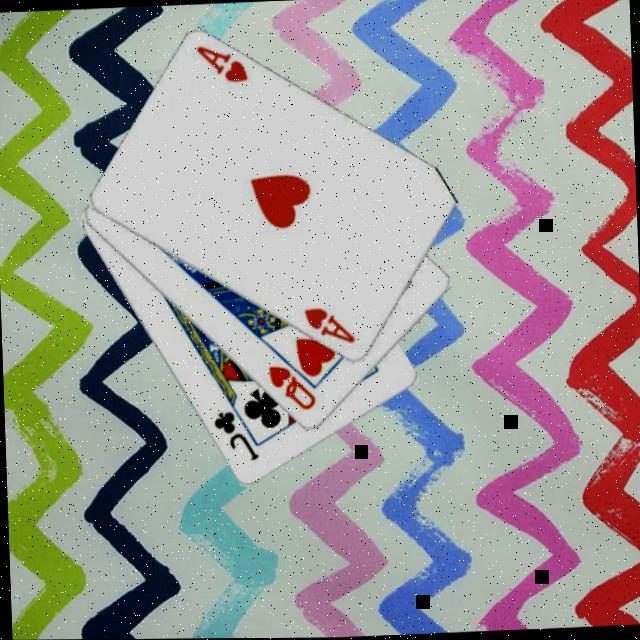AH: (298, 304, 357, 350), (190, 42, 249, 88)
JC: (207, 408, 260, 466)
QH: (263, 362, 317, 417)
